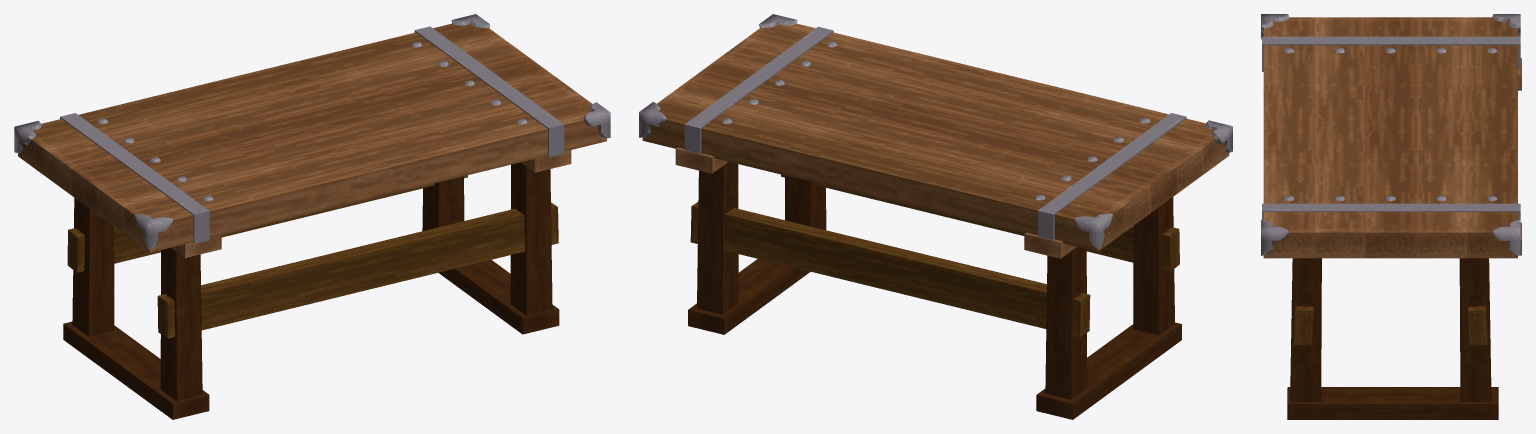
The model's file is Workbench.glb.
The picture shows the model from 3 angles, left to right: view 1: azimuth 30°, elevation 25°; view 2: azimuth 150°, elevation 25°; view 3: azimuth 270°, elevation 25°; orthographic projection. The views are drawn at different scales.
Visible parts, largest first — view 1: Workbench; view 2: Workbench; view 3: Workbench.
Part boxes in pixels (left/top/right/bottom): Workbench: left=14, top=14, right=610, bottom=419; Workbench: left=639, top=14, right=1232, bottom=419; Workbench: left=1261, top=14, right=1521, bottom=419.
Size of the model in its own units: 2.02 by 0.8945 by 1.02.
2 materials, 2 textured.
